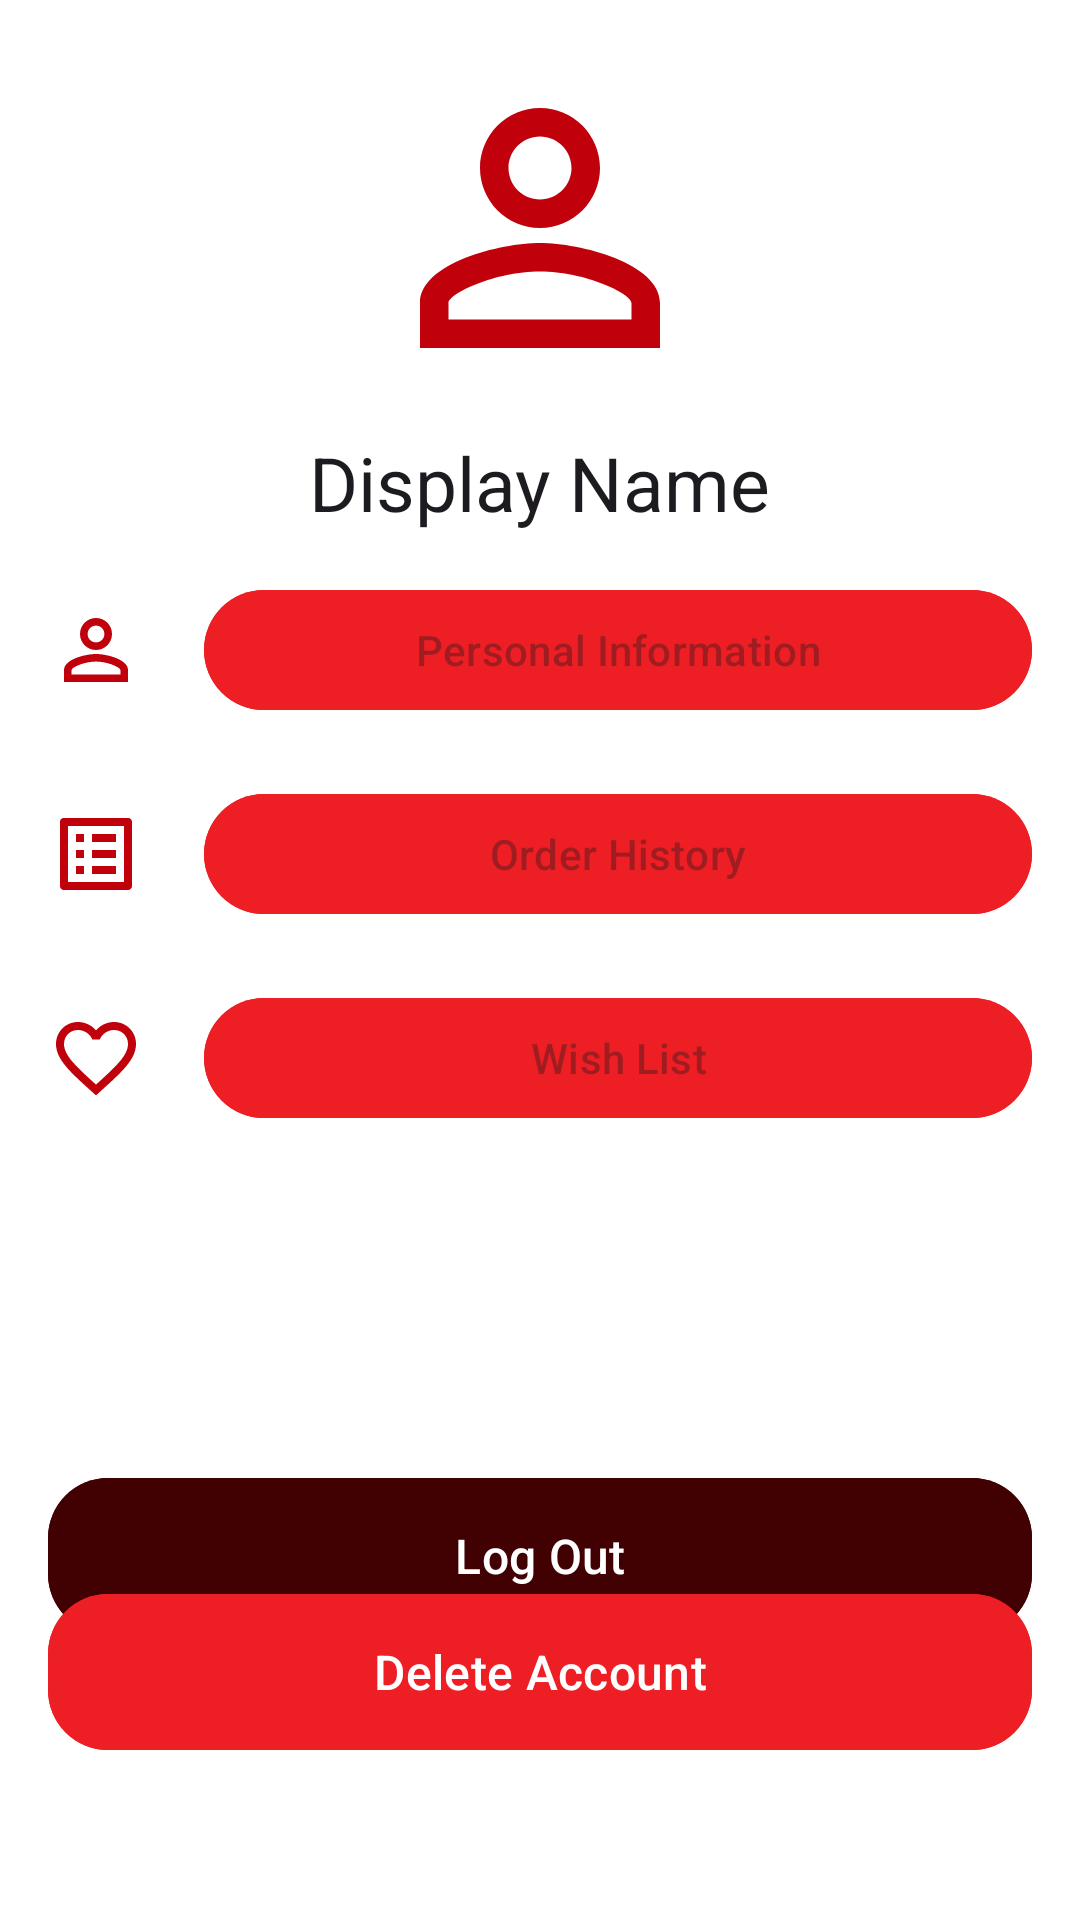

Icons on this 1080*1920 Android screen, each with the point to tap as (x,y):
heart: (96,1058)
profile: (96,650)
Profile Picture: (540,228)
